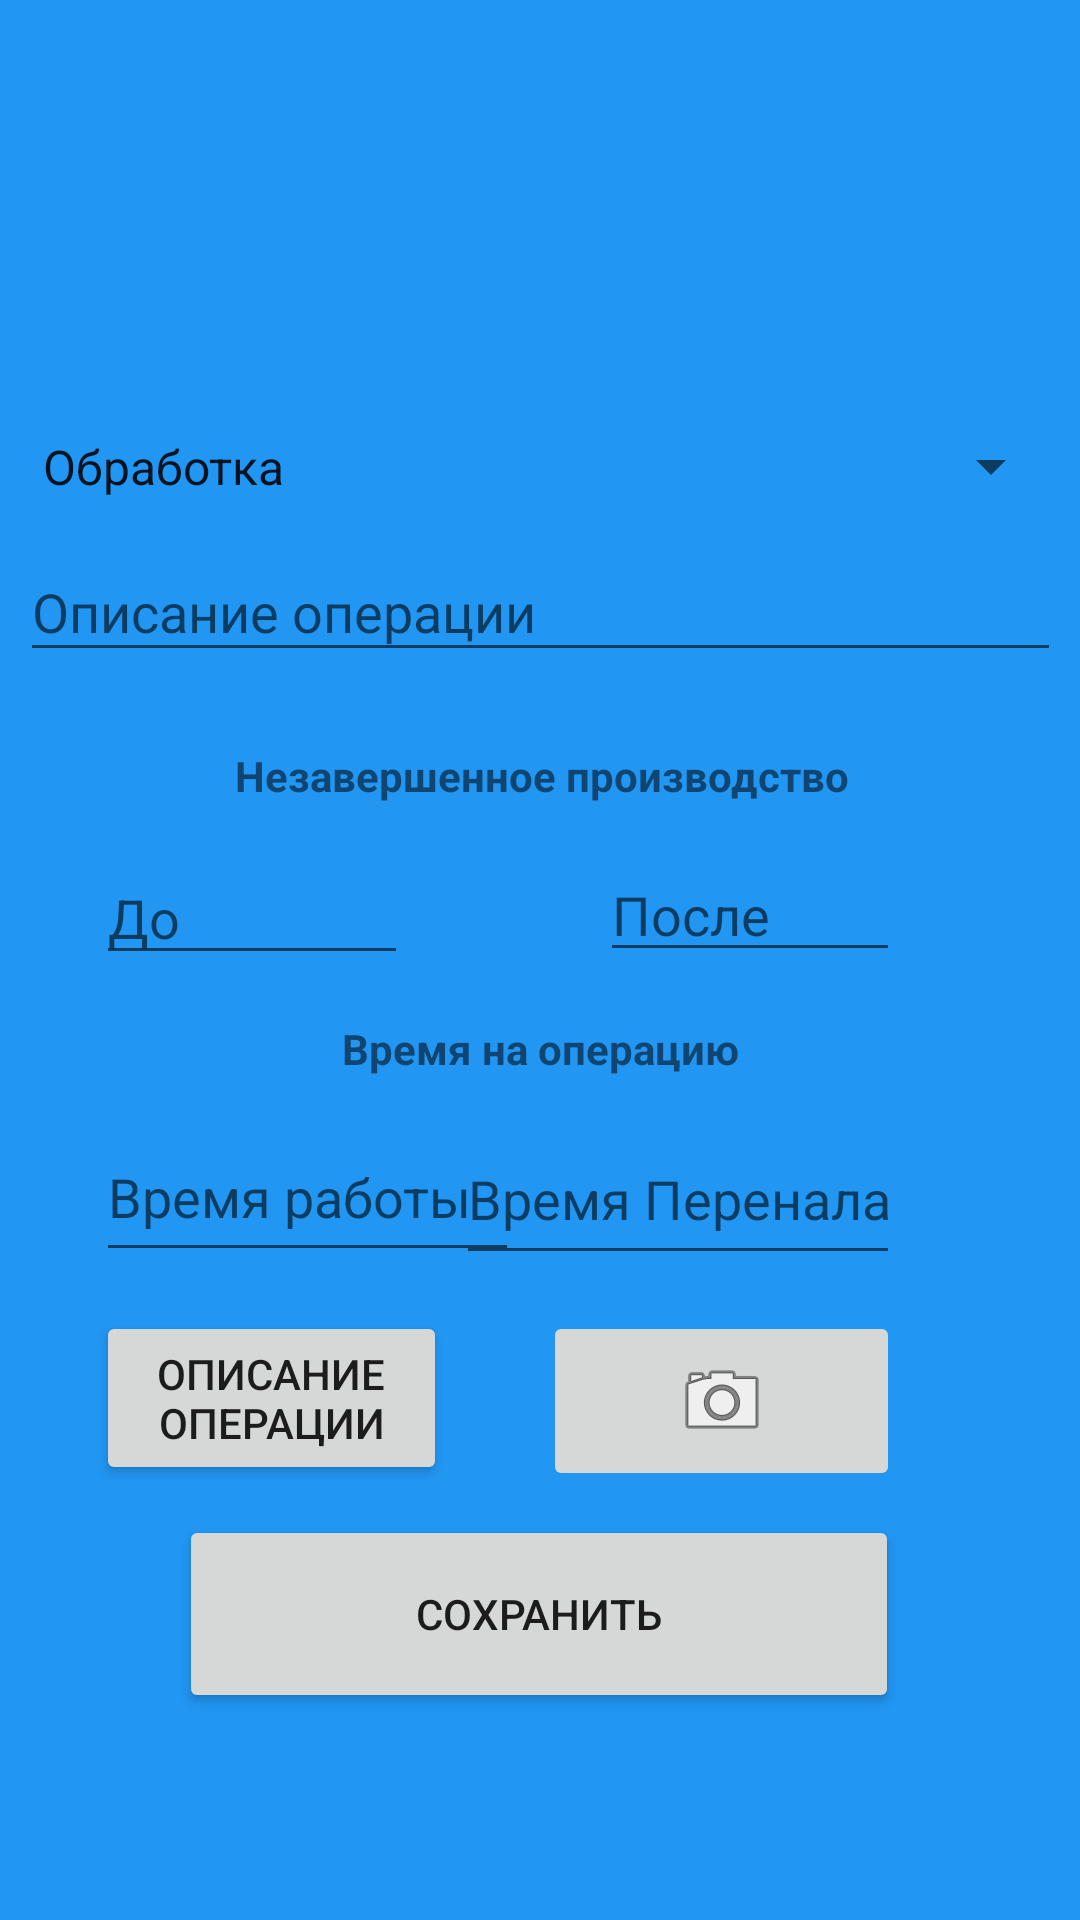

Icons on this 1080px x 1920px Android screen, each with its box as (x1, y1, x2, y2):
camera: (555, 1329, 888, 1473)
